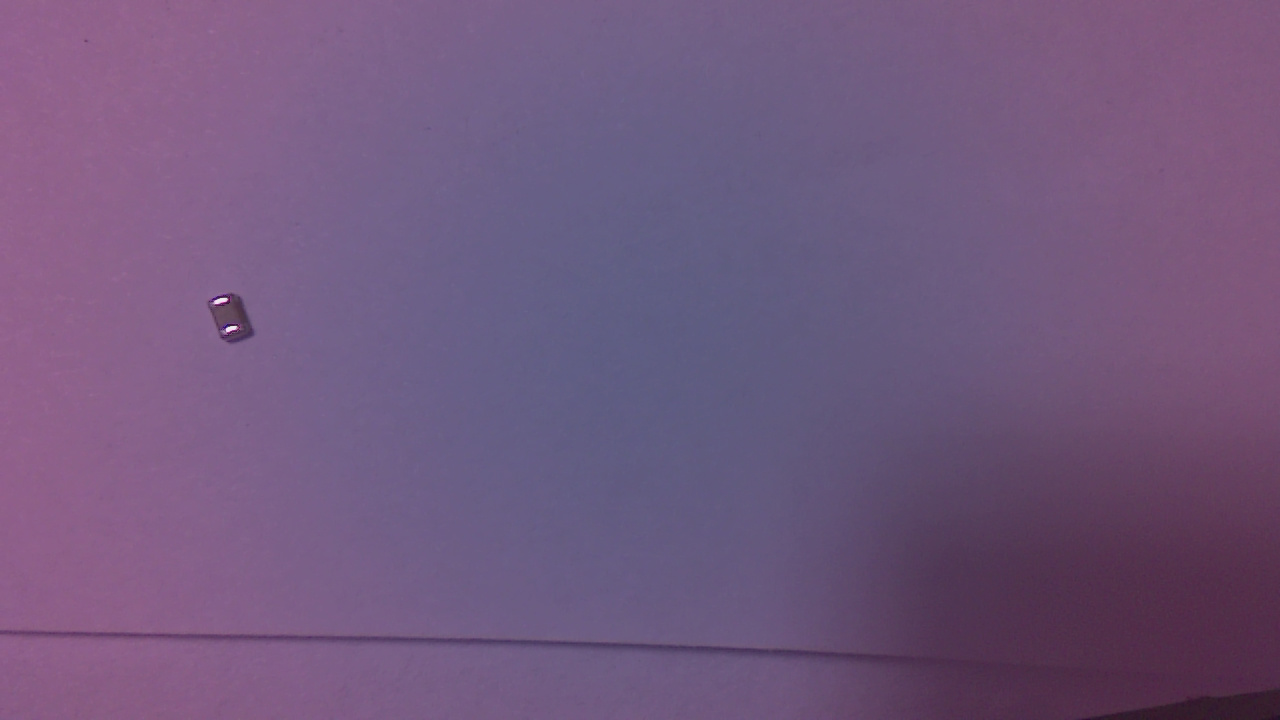Condensator: (210, 293, 263, 352)
